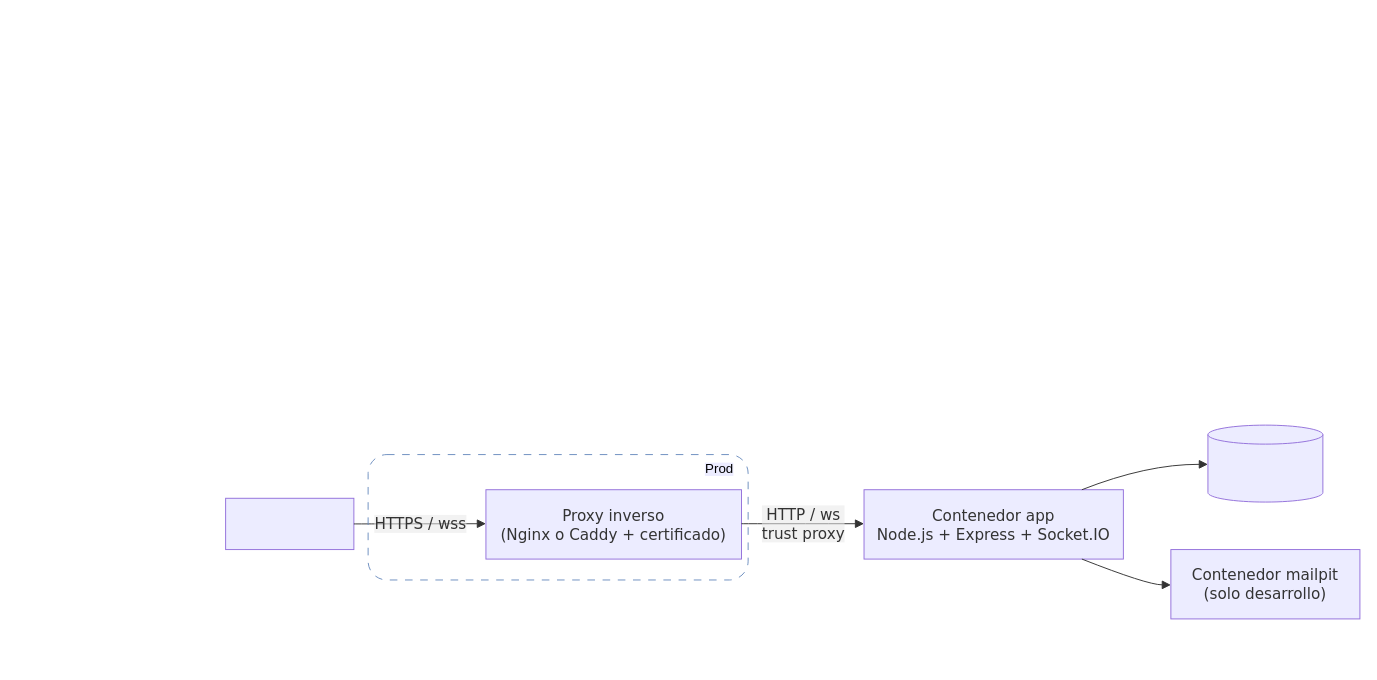
Some shapes in this 1377 by 680 pixel diagram are drawn without their labels. Here are the shapes that lost their labels. From the top down, the centre of each, then its label:
At [1265,463]: "Contenedor db PostgreSQL 16".
At [289,523]: "Navegador".
